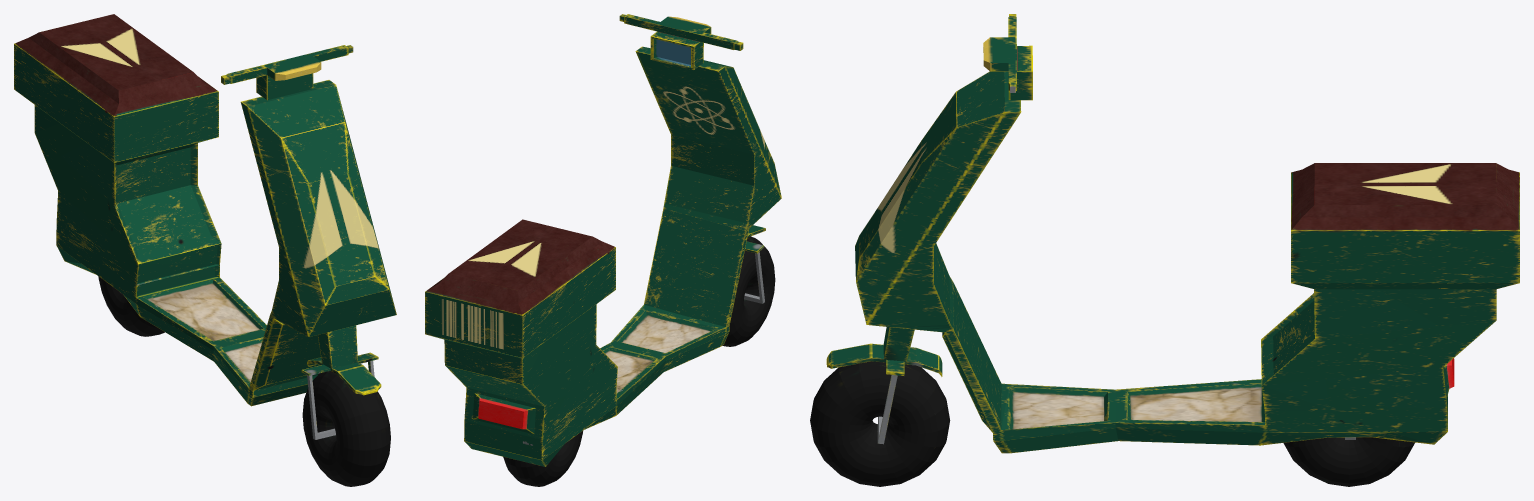
File: scooter3.obj
The picture shows the model from 3 angles, left to right: view 1: azimuth 30°, elevation 25°; view 2: azimuth 150°, elevation 25°; view 3: azimuth 270°, elevation 25°; orthographic projection. The views are drawn at different scales.
Visible parts, largest first — view 1: Cube; view 2: Cube; view 3: Cube.
Part boxes in pixels (bbox=[...]): Cube: bbox=[14, 14, 396, 486]; Cube: bbox=[425, 14, 781, 486]; Cube: bbox=[810, 14, 1519, 486].
Bounding box in the file's own units: 2.87 × 8.04 × 11.93.
